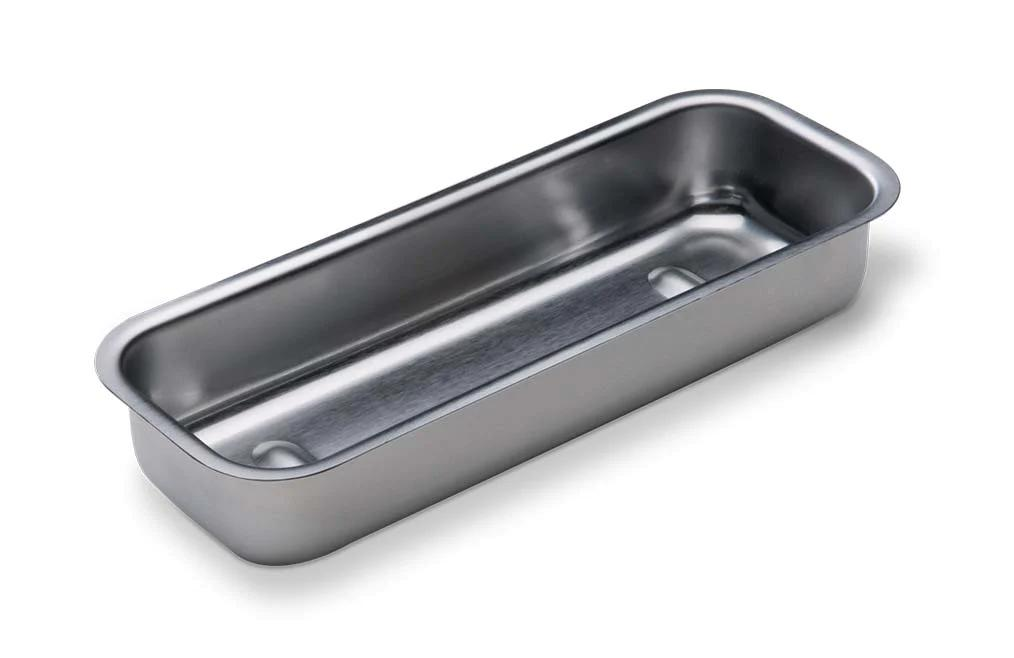Catheter Tray: (90, 81, 904, 584)
